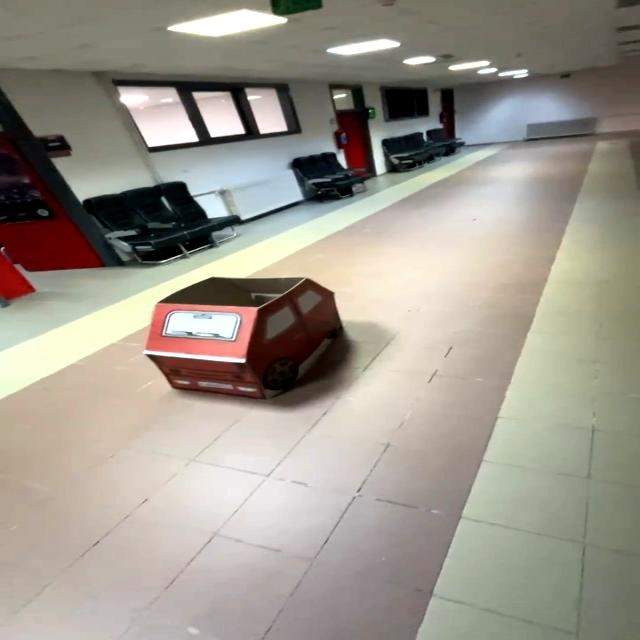red_car: (119, 265, 382, 435)
